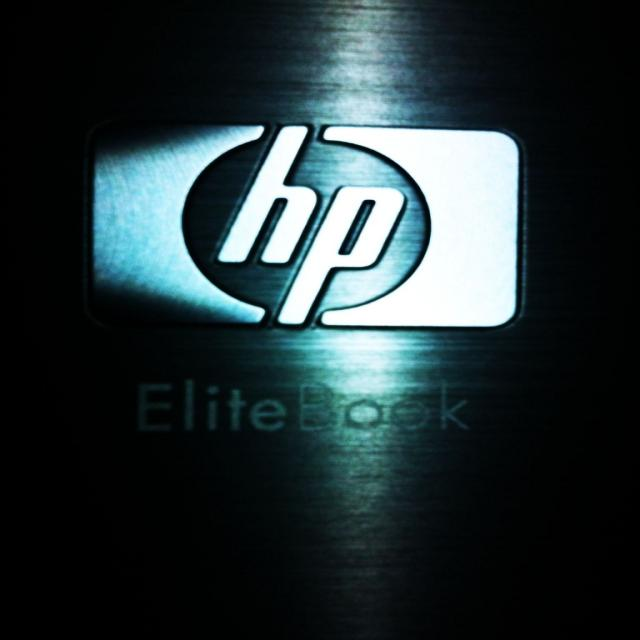HP: (88, 122, 524, 330)
